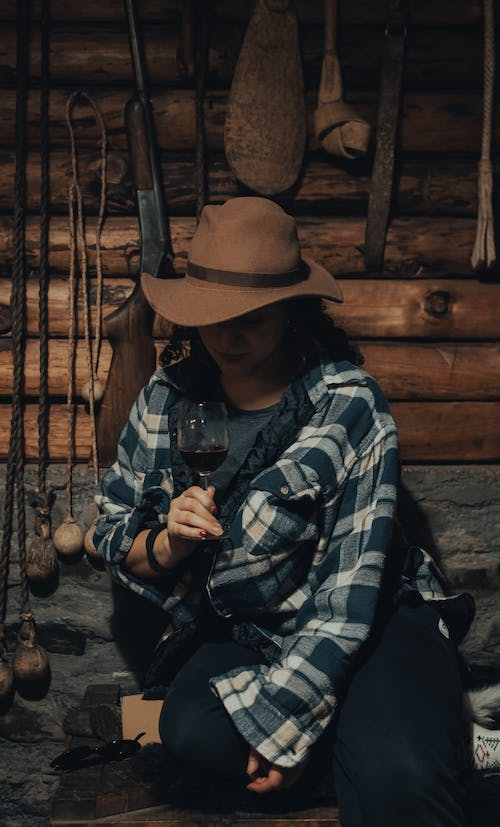alcohol: (168, 396, 233, 547)
gun: (85, 0, 175, 475)
